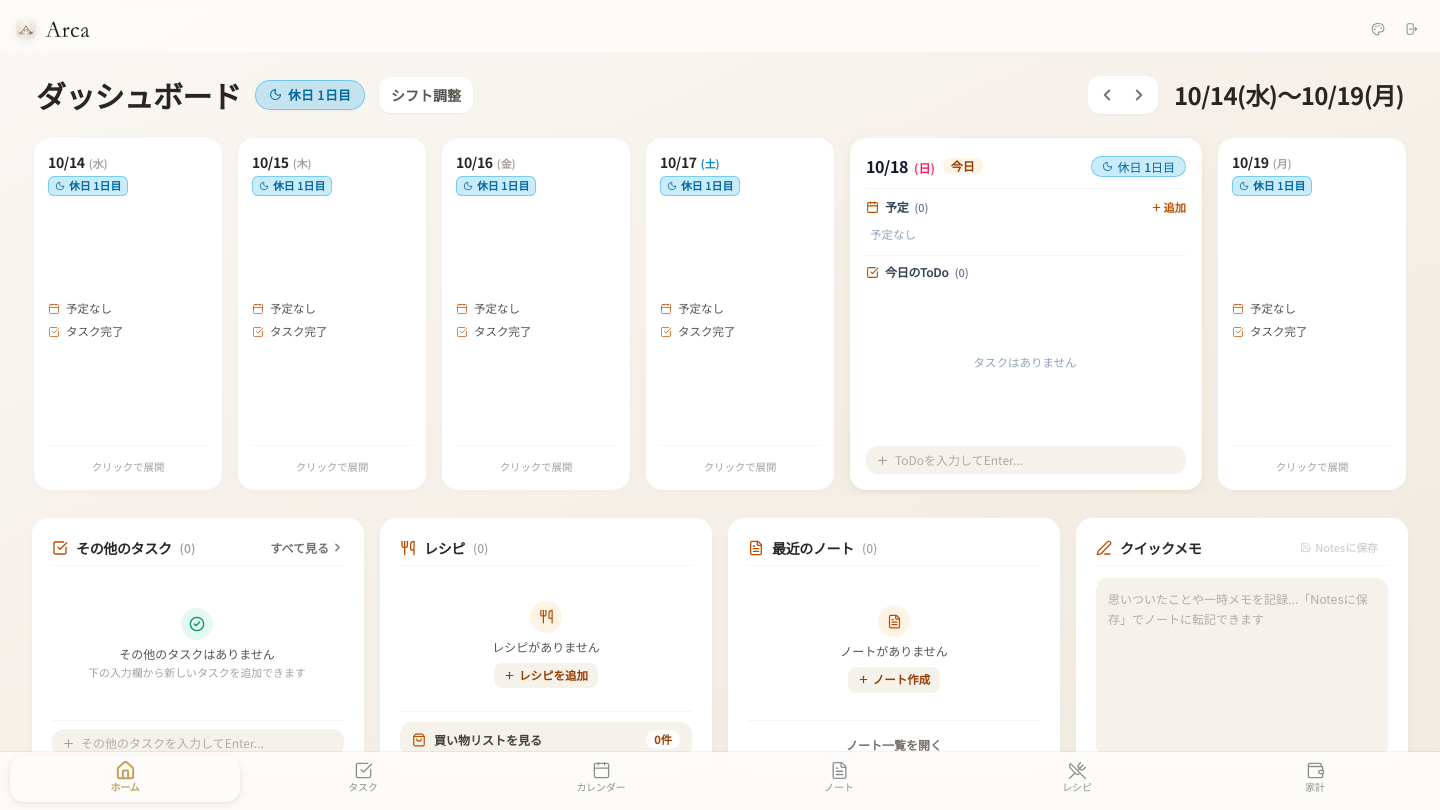
Test: iPhone 専用下部グローバルタブバー › iPhone の下部タブバーでタスクをタップすると Tasks モジュールに切り替わること
The image size is (1440, 810).
Click the button with test id "iphone-tab-tasks" at {"x": 363, "y": 776}, box x1=244 y1=752 x2=482 y2=800
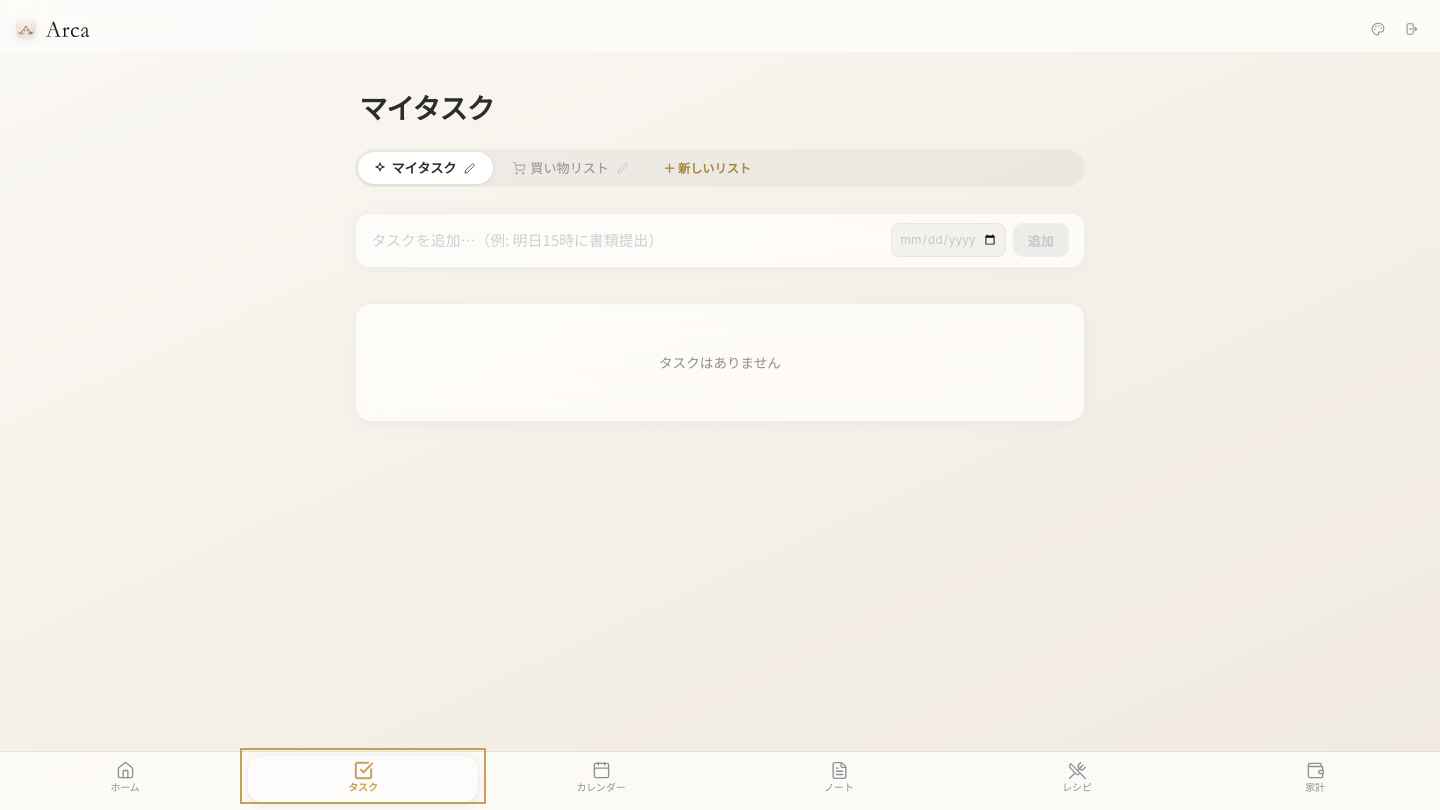
Check: the field with placeholder "タスクを追加…（例: 明日15時に書類提出）" is shown, box x1=371 y1=229 x2=883 y2=252
